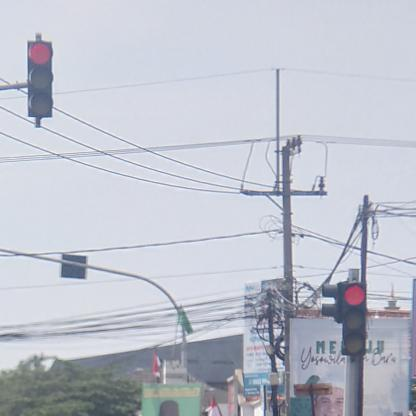red: (26, 42, 55, 119), (340, 282, 368, 357)
